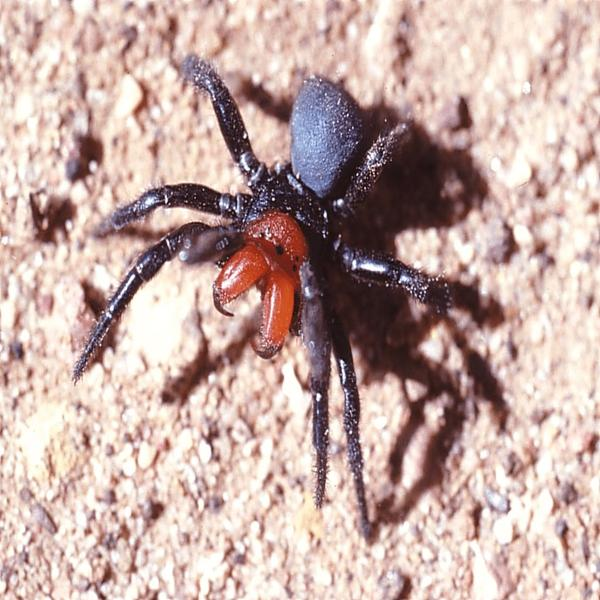Red Headed Mouse Spider: (86, 56, 450, 518)
